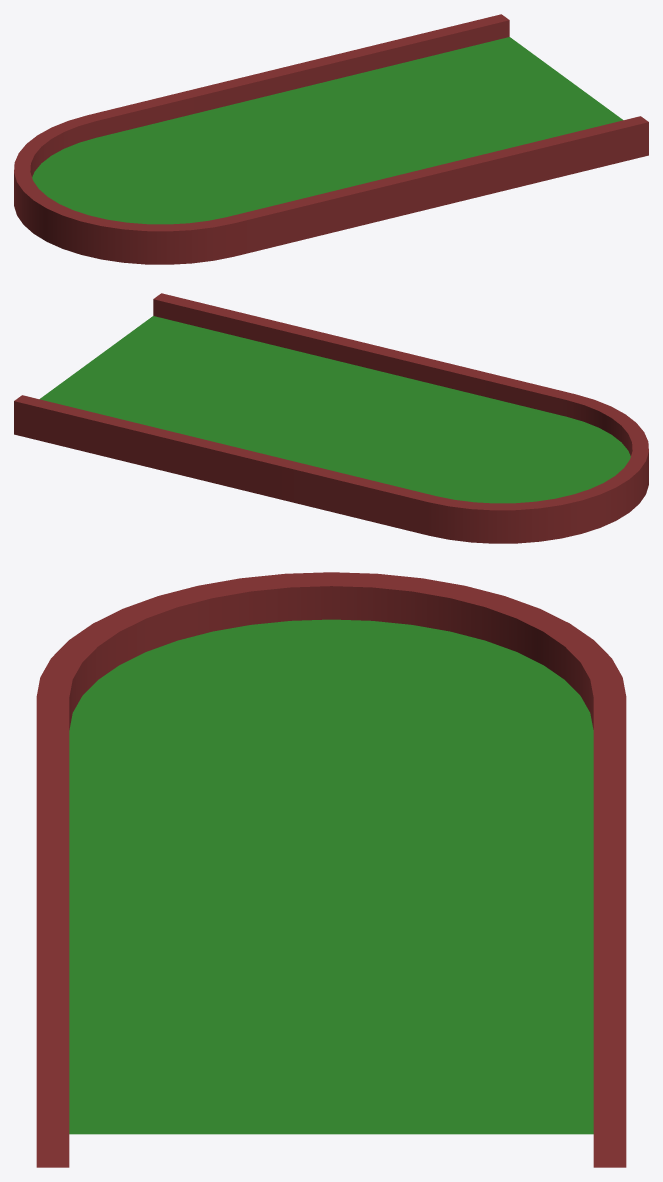
The model's file is Lock_tow_Tiles.fbx.
3 renders of one model, top to bottom at view 1: azimuth 30°, elevation 25°; view 2: azimuth 150°, elevation 25°; view 3: azimuth 270°, elevation 25°, orthographic. The views are drawn at different scales.
Visible parts, largest first — view 1: Lock_base, Lock_mid_part; view 2: Lock_base, Lock_mid_part; view 3: Lock_base, Lock_mid_part.
Part boxes in pixels (<box>): Lock_base: <box>14,78,386,264</box>; Lock_mid_part: <box>240,14,648,219</box>; Lock_base: <box>276,357,648,543</box>; Lock_mid_part: <box>14,293,422,498</box>; Lock_base: <box>36,572,626,878</box>; Lock_mid_part: <box>36,845,626,1167</box>.
Size of the model in its own units: 47.36 by 2.79 by 22.32.
